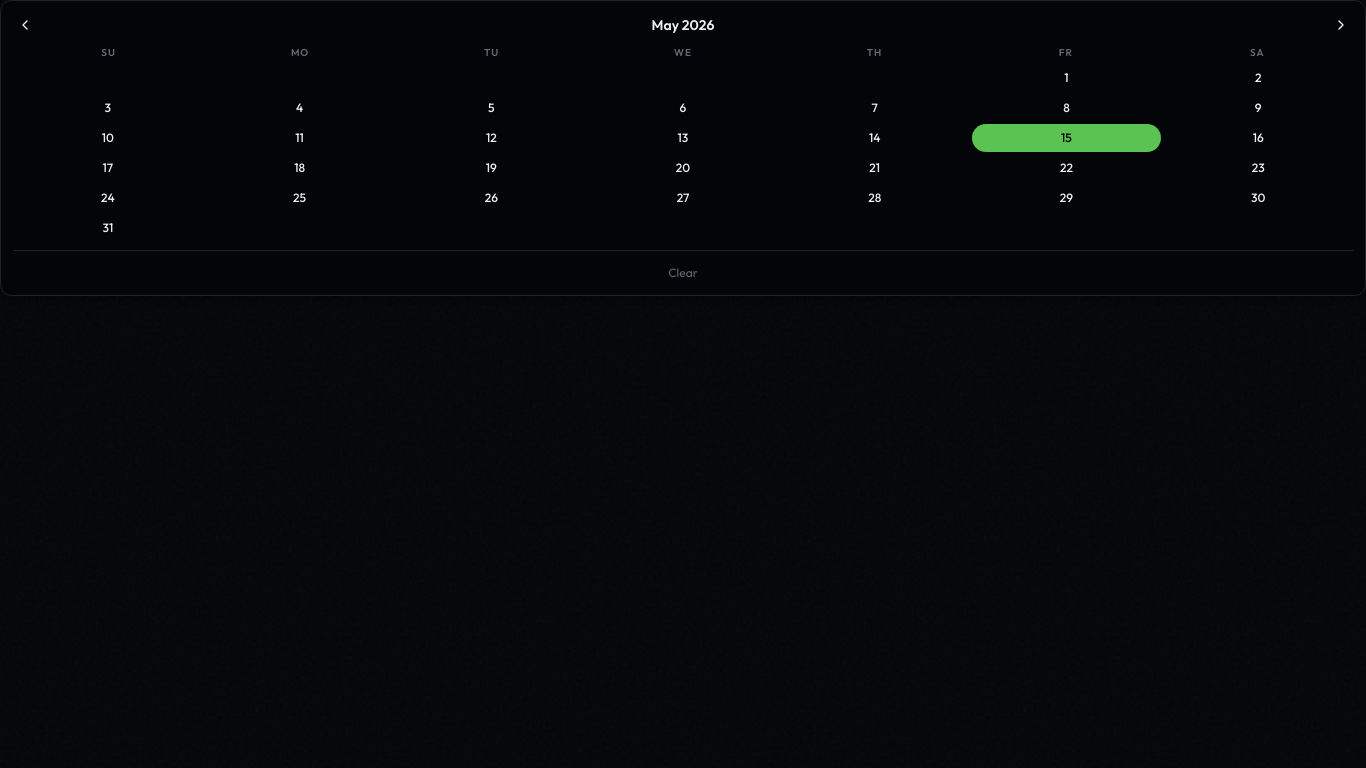
Test: DatePickerMini › next month button navigates forward
The width and height of the screenshot is (1366, 768).
What coordinates should you click on to do the following:
click the button named "Next month"
I would click on:
 (1341, 25)
Its box is [1329,13,1353,37].
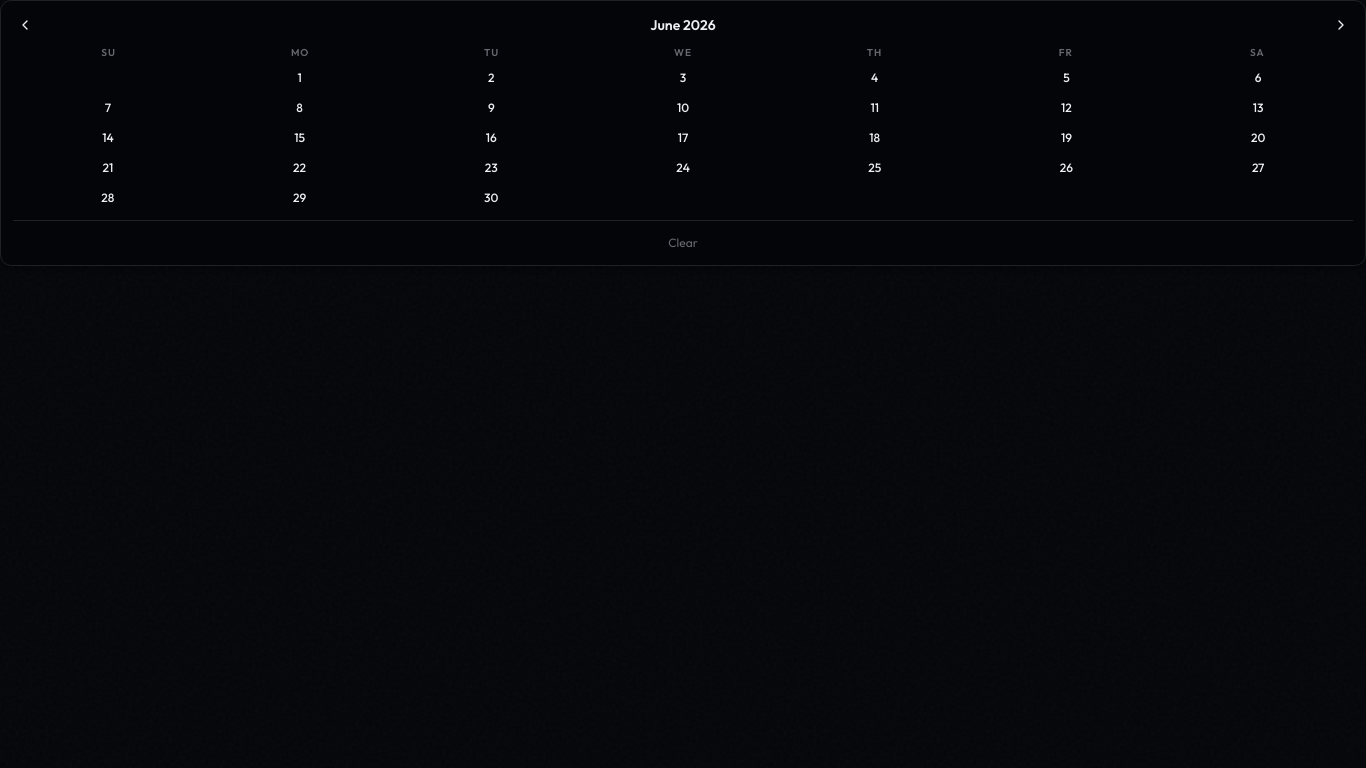
Check: the button "June 2026" is shown, box [650,15,716,35]
